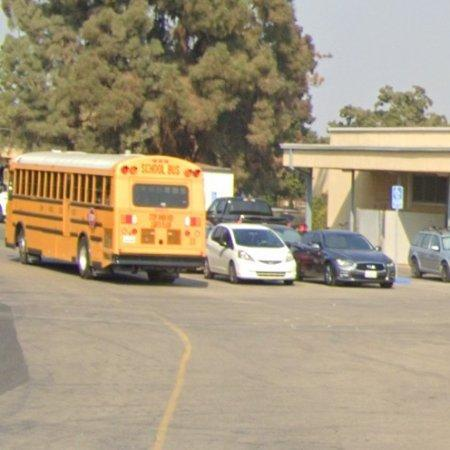buses: (5, 152, 206, 282)
